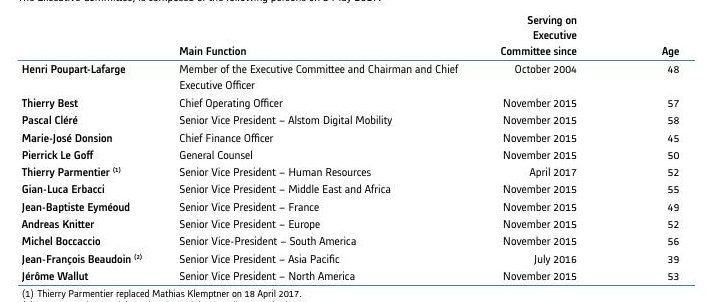table: (0, 0, 712, 302)
